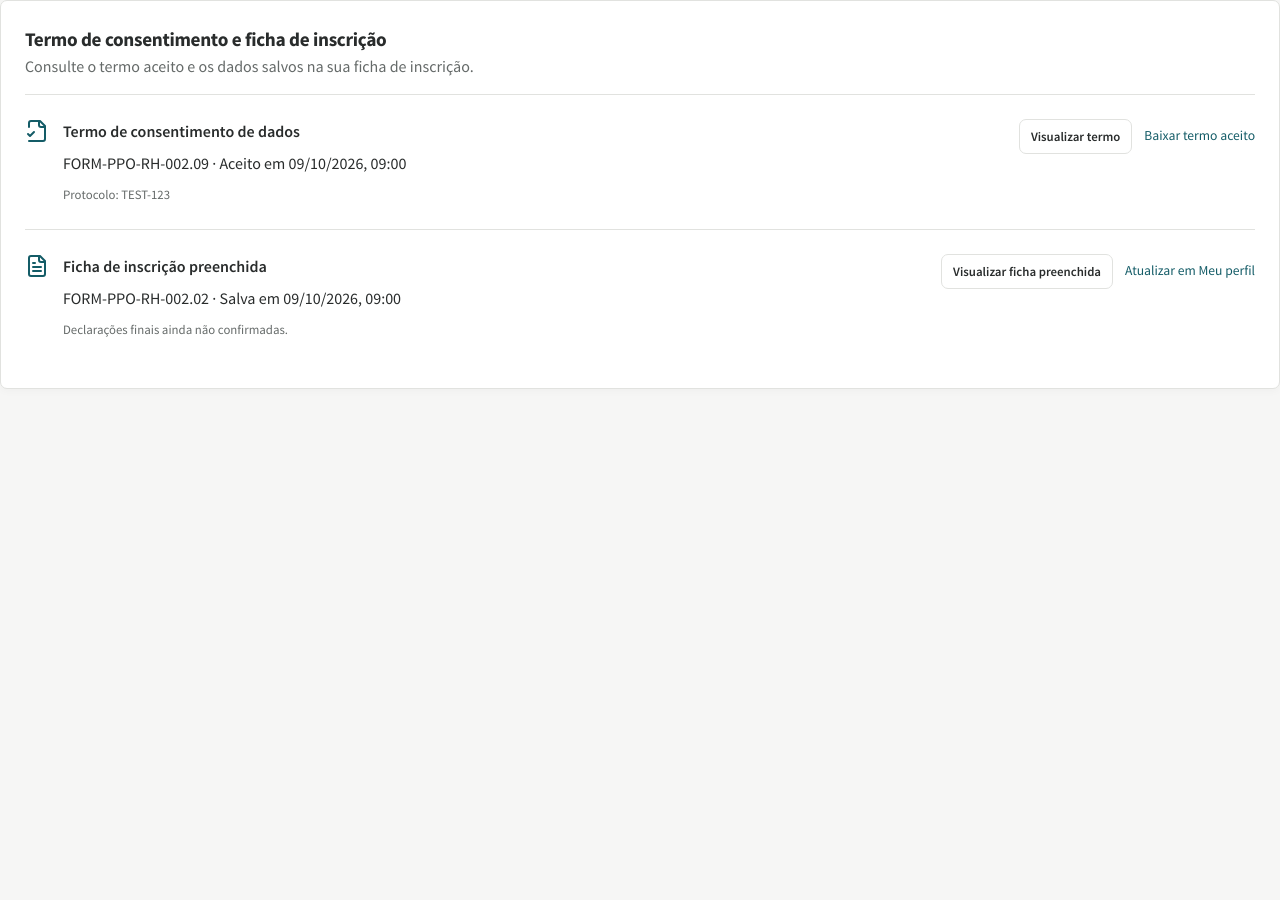
Scenario: consulta a ficha salva e o termo realmente aceito, sem editar nem reenviar dados
This screenshot has width=1280, height=900.
Click the button "Visualizar ficha preenchida" at (1027, 271), box 941,254 -> 1113,289
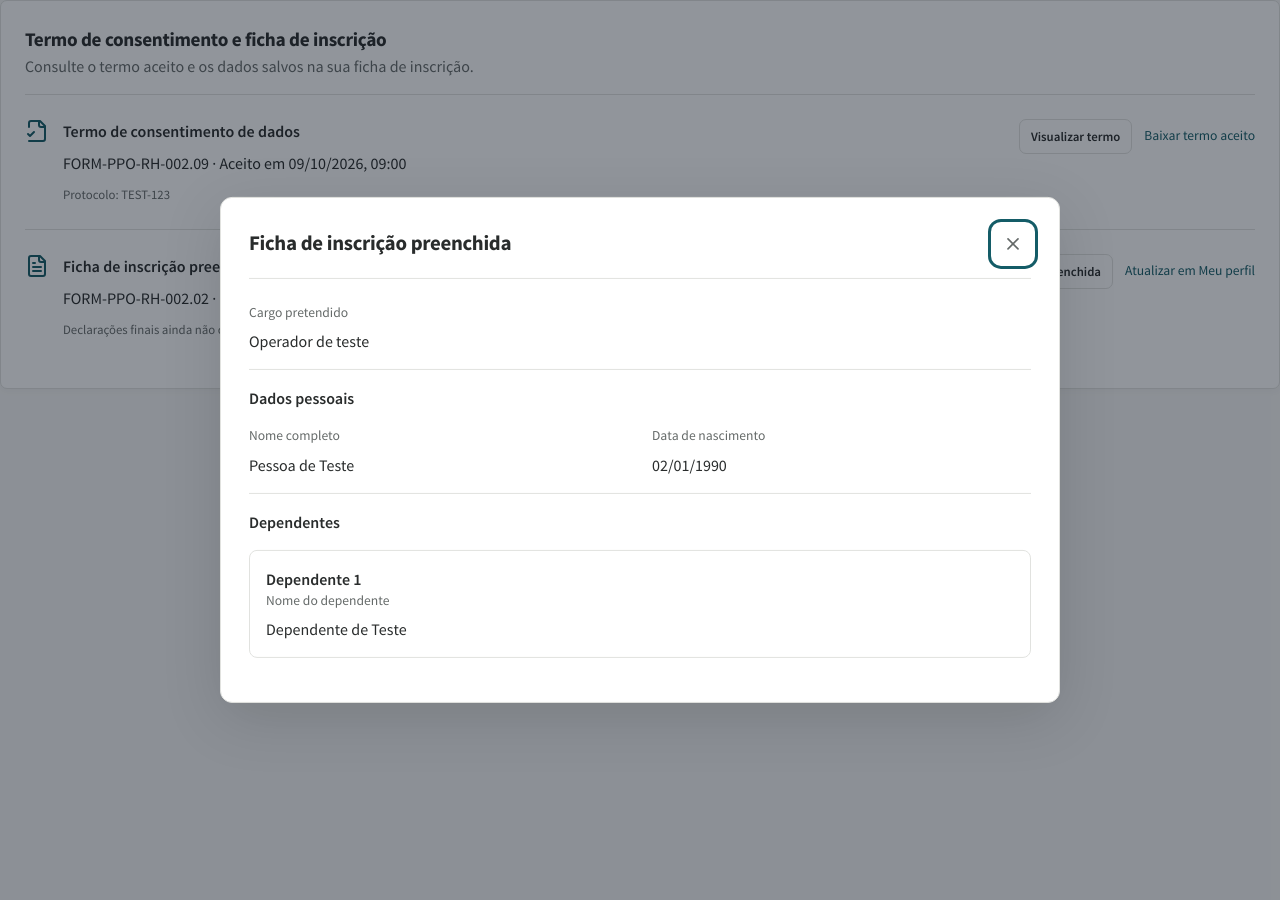
Result: the text "Pessoa de Teste" is shown at 249,455 -> 354,475
Result: the text "02/01/1990" is shown at 652,455 -> 727,475
Result: the text "Dependente de Teste" is shown at 266,619 -> 407,639
Click the button named "Fechar" at (1013, 244), box 995,226 -> 1031,262
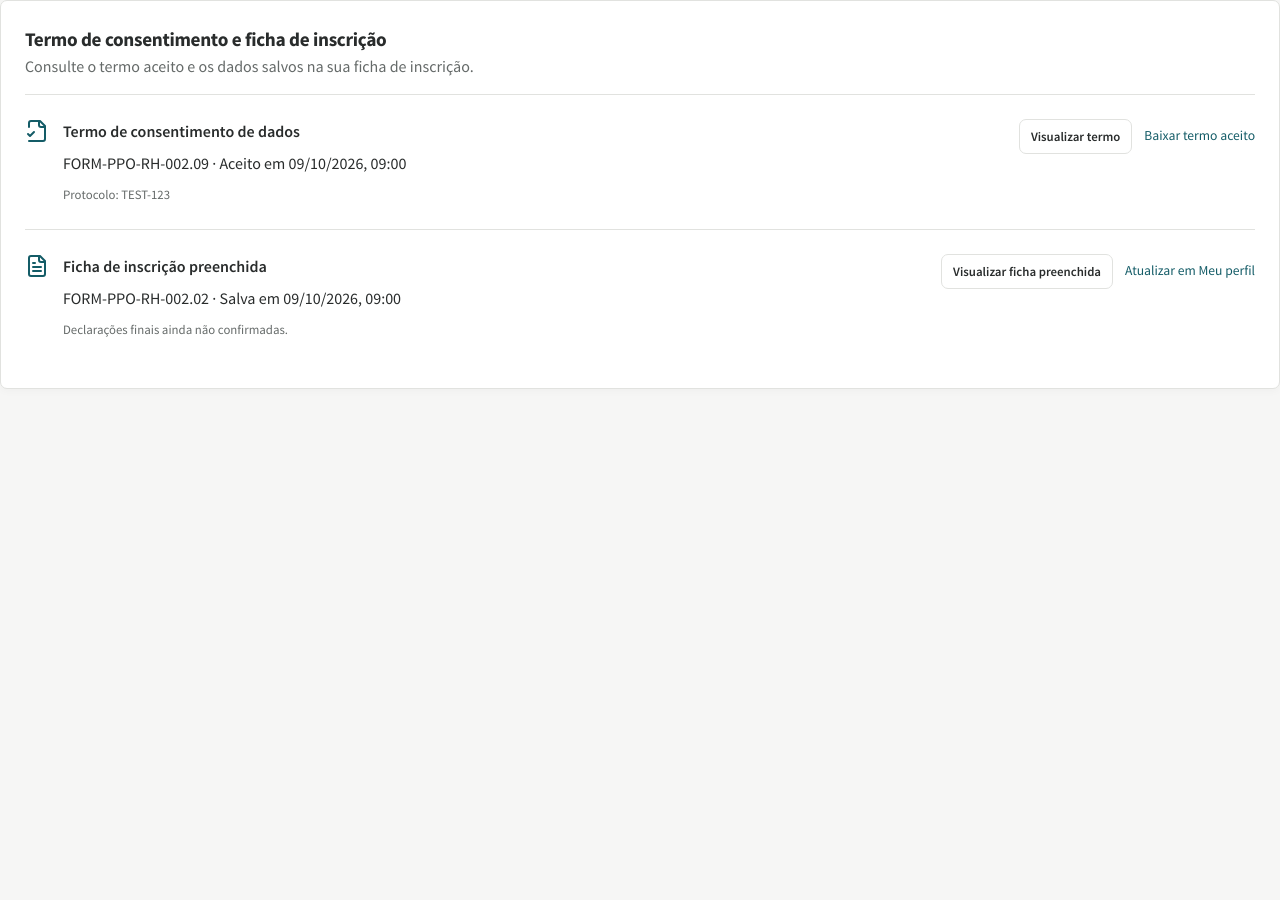
Click the button "Visualizar termo" at (1076, 136), box 1019,119 -> 1132,154
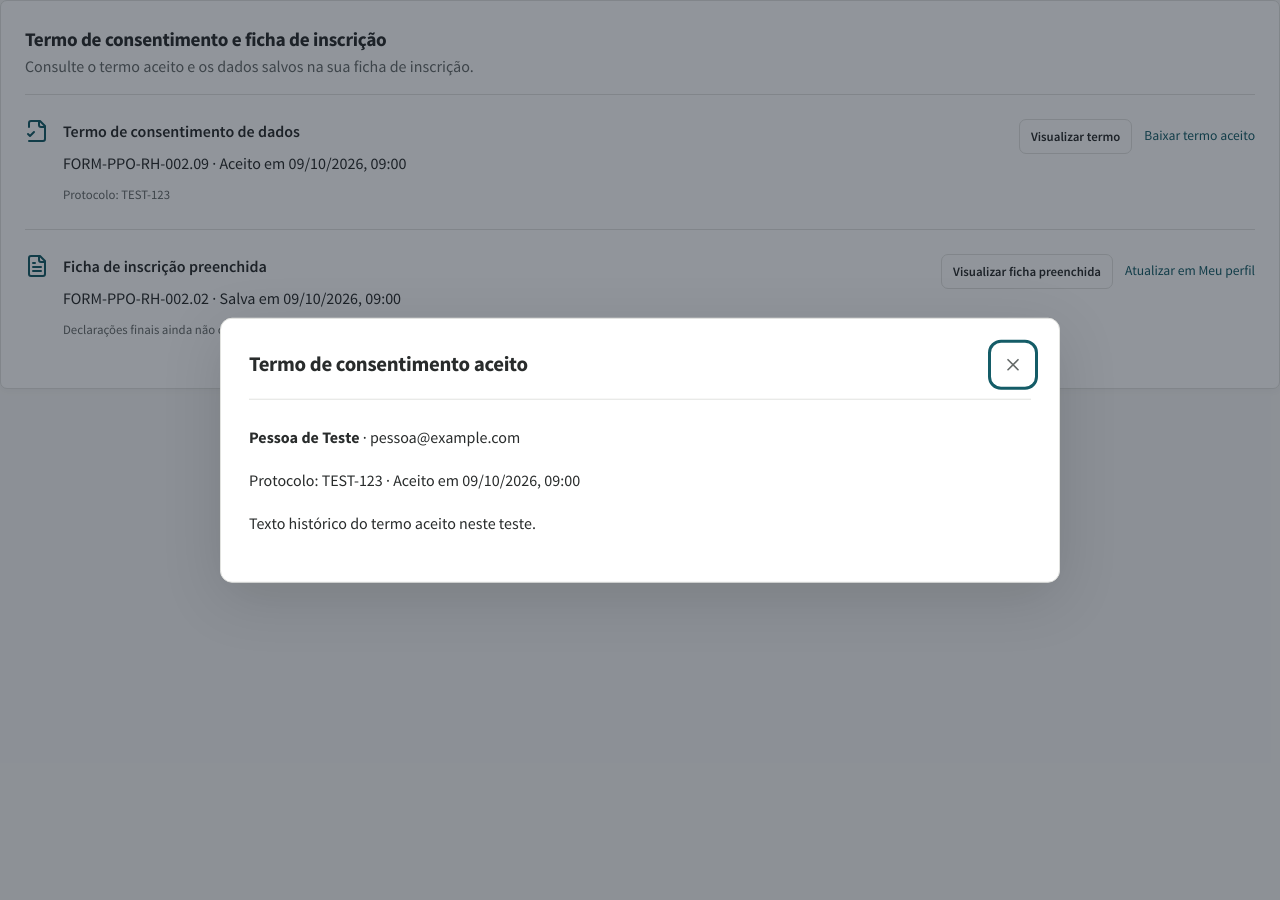
Result: the text "Texto histórico do termo aceito neste teste." is shown at 249,513 -> 536,533
